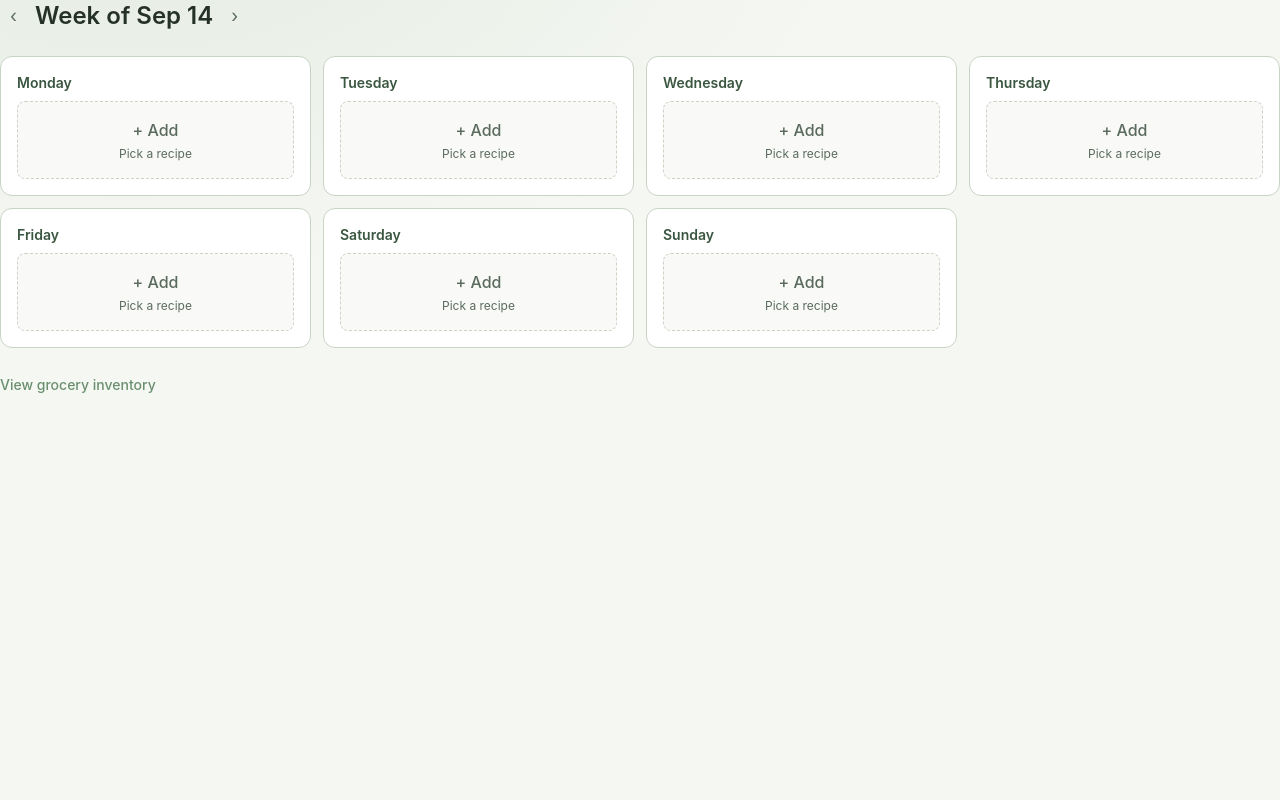
it: WeeklyBoardPage › keeps the recipe picker open under StrictMode
Click the button "+ Add Pick a recipe" below "Monday". click: (156, 140)
box: [17,101,294,179]
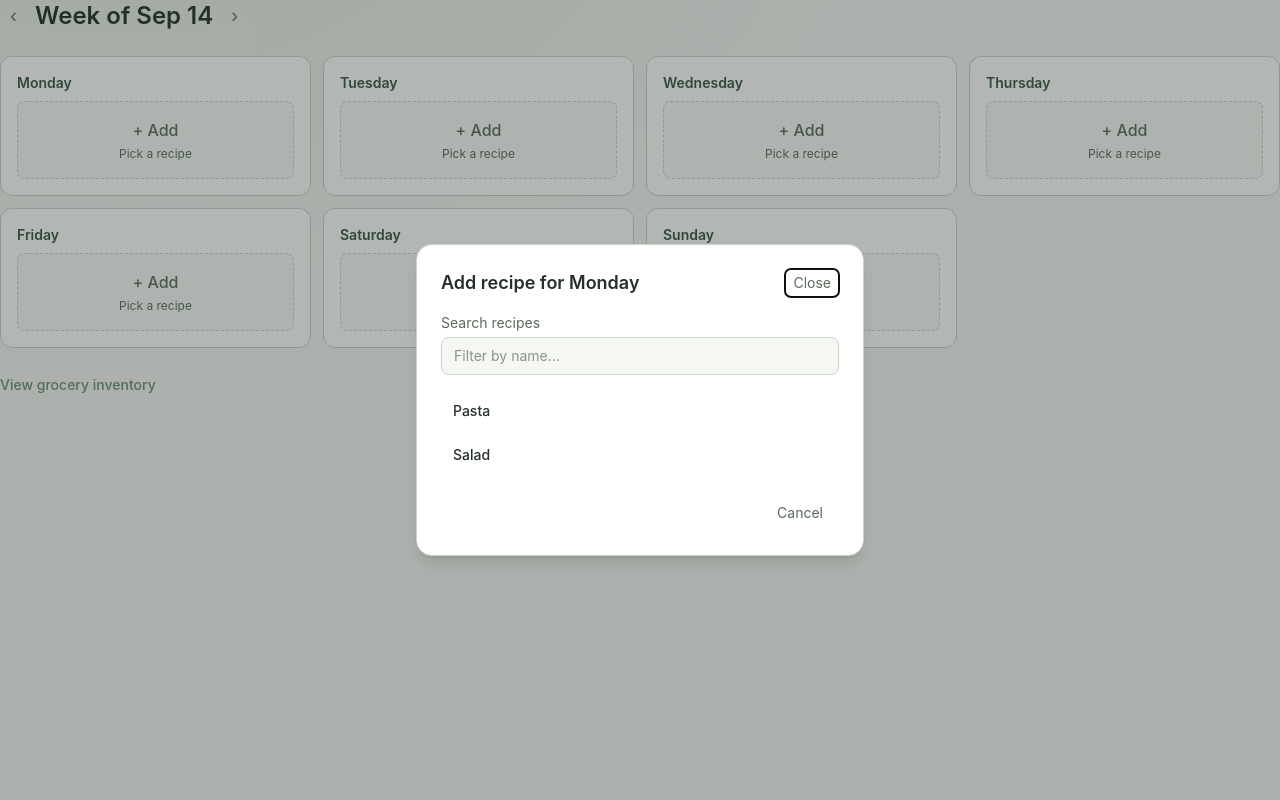
Expected: the heading "Add recipe for Monday" is shown, [441,269,640,297]
Expected: the dialog is shown, [416,244,864,556]
